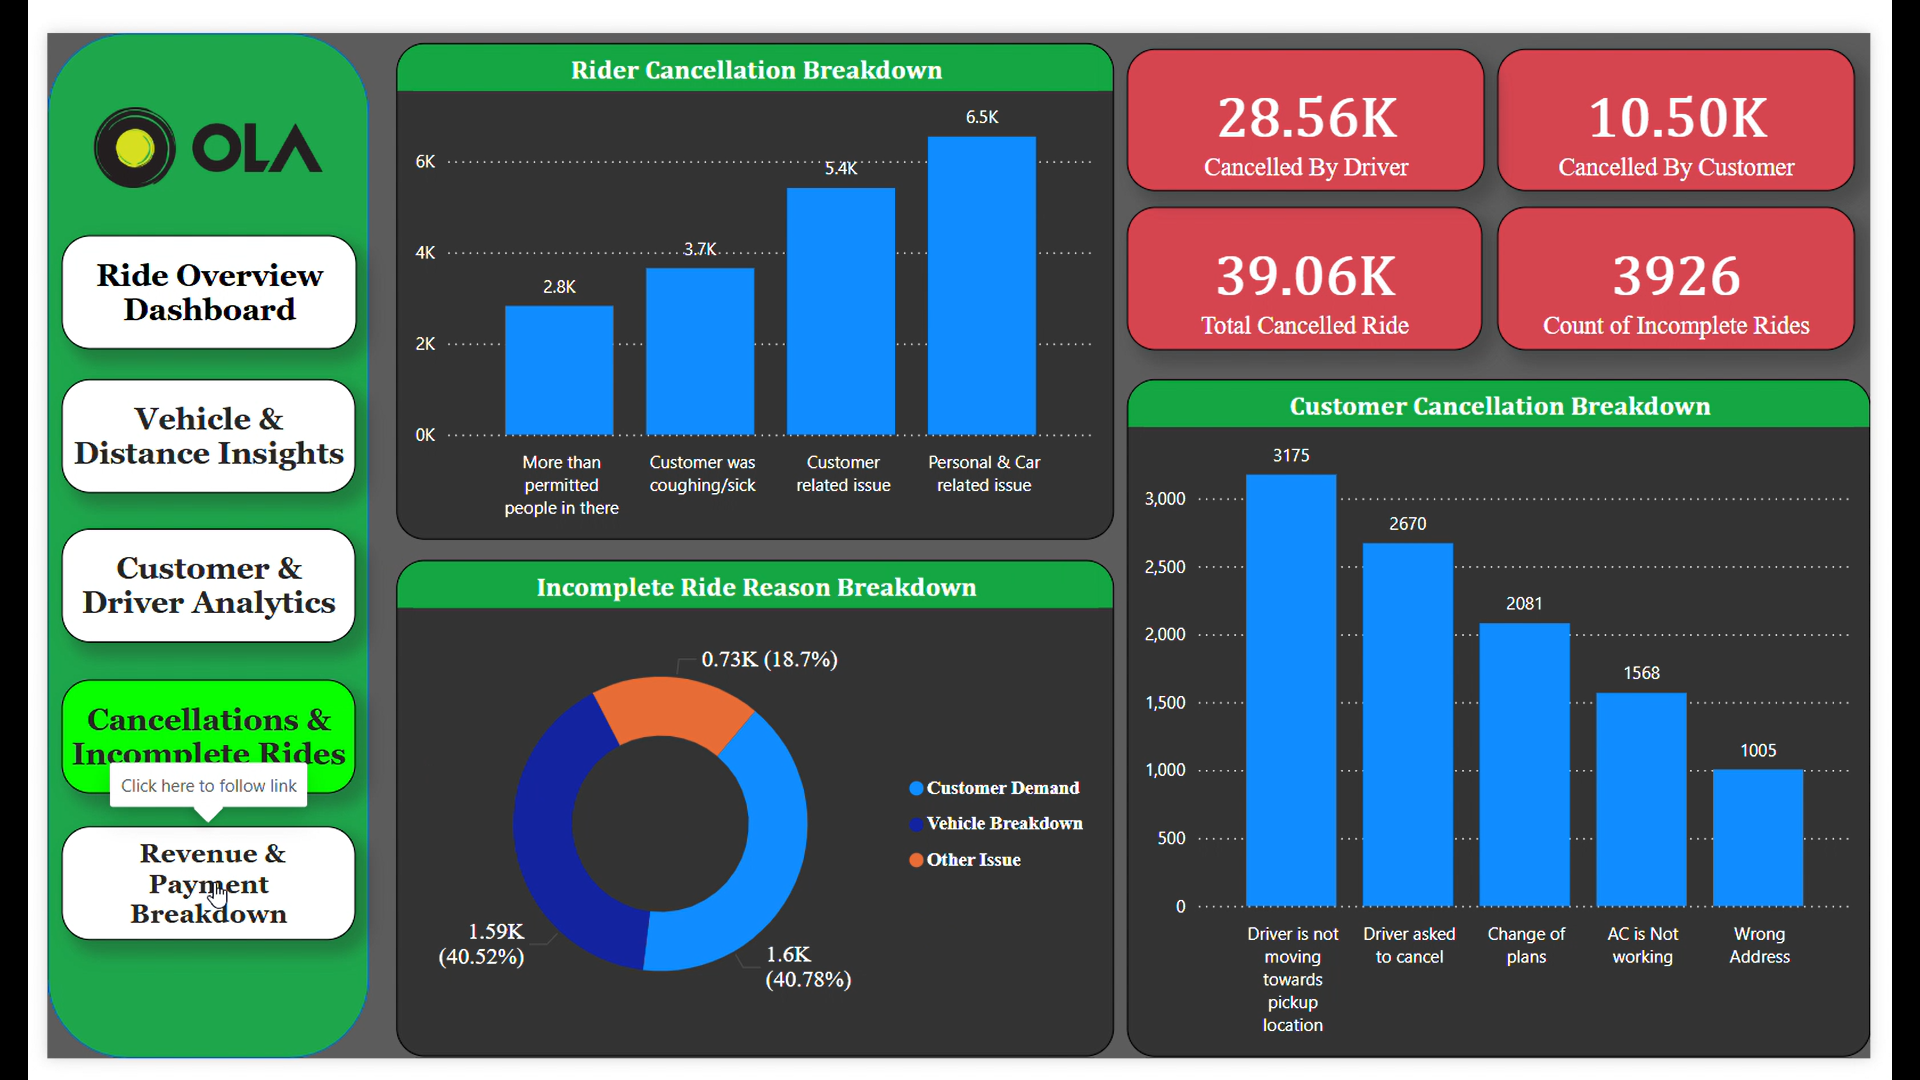

Layout of this report page (visuals, bound fields, positions):
{"tool":"powerbi","page":{"name":"Cancellations & Incomplete Rides","canvas":[1280,720],"ordinal":3},"visuals":[{"type":"shape","box":[0,0,225.7,720],"z":0},{"type":"image","box":[27.1,28.3,171.1,103.4],"z":1000},{"type":"textbox","box":[10.1,141.7,206.6,80.5],"z":2000},{"type":"textbox","box":[10,242.6,206.3,80.1],"z":3000},{"type":"textbox","box":[10,348.1,206.3,80.1],"z":4000},{"type":"textbox","box":[10,453.7,206.3,80.1],"z":5000},{"type":"textbox","box":[10,556.5,206.3,80.1],"z":6000},{"type":"actionButton","box":[10,242.9,205.7,80],"z":7000},{"type":"actionButton","box":[10,141.4,205.7,80],"z":8000},{"type":"actionButton","box":[10,348.6,205.7,80],"z":9000},{"type":"actionButton","box":[10,557.1,205.7,80],"z":10000},{"type":"clusteredColumnChart","title":"Customer Cancellation Breakdown","fields":{"Category":["July.Canceled_Rides_by_Customer"],"Y":["CountNonNull(July.Booking_ID)"]},"box":[758.3,243.5,521.7,475.8],"z":11000},{"type":"clusteredColumnChart","title":"Rider Cancellation Breakdown","fields":{"Category":["July.Canceled_Rides_by_Driver"],"Y":["CountNonNull(July.Booking_ID)"]},"box":[244.9,7,503.7,349.2],"z":12000},{"type":"card","fields":{"Values":["CountNonNull(July.Booking_ID)"]},"box":[758.3,122.4,249,100.2],"z":13000},{"type":"donutChart","title":"Incomplete Ride Reason Breakdown","fields":{"Category":["July.Incomplete_Rides_Reason"],"Y":["CountNonNull(July.Booking_ID)"]},"box":[244.9,370.1,503.7,349.2],"z":14000},{"type":"card","fields":{"Values":["CountNonNull(July.Booking_ID)"]},"box":[1018.4,11.1,250.4,100.2],"z":15000},{"type":"card","fields":{"Values":["CountNonNull(July.Booking_ID)"]},"box":[758.3,11.1,250.4,100.2],"z":16000},{"type":"card","fields":{"Values":["CountNonNull(July.Incomplete_Rides)"]},"box":[1018.4,122.4,250.4,100.2],"z":17000}]}

Visuals, with their boxes in screenshot pixels (x1, y1, x2, y2), scaled from the page's 1280x720 canvas onto the 1920x1080 screenshot:
shape: select_region(0, 0, 339, 1079)
image: select_region(41, 42, 297, 198)
textbox: select_region(15, 213, 325, 333)
textbox: select_region(15, 364, 324, 484)
textbox: select_region(15, 522, 324, 642)
textbox: select_region(15, 681, 324, 801)
textbox: select_region(15, 835, 324, 955)
actionButton: select_region(15, 364, 324, 484)
actionButton: select_region(15, 212, 324, 332)
actionButton: select_region(15, 523, 324, 643)
actionButton: select_region(15, 836, 324, 956)
"Customer Cancellation Breakdown" clusteredColumnChart: select_region(1137, 365, 1919, 1079)
"Rider Cancellation Breakdown" clusteredColumnChart: select_region(367, 10, 1123, 534)
card - CountNonNull(July.Booking_ID): select_region(1137, 184, 1511, 334)
"Incomplete Ride Reason Breakdown" donutChart: select_region(367, 555, 1123, 1079)
card - CountNonNull(July.Booking_ID): select_region(1528, 17, 1903, 167)
card - CountNonNull(July.Booking_ID): select_region(1137, 17, 1513, 167)
card - CountNonNull(July.Incomplete_Rides): select_region(1528, 184, 1903, 334)
